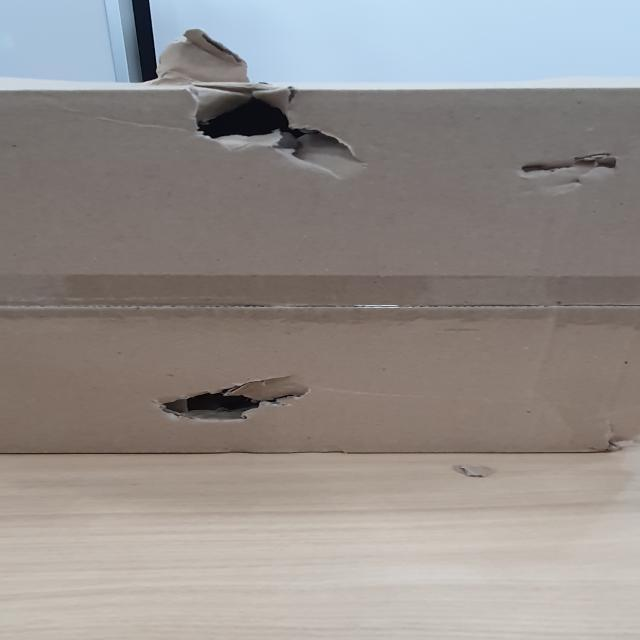hole: (189, 89, 353, 161), (154, 379, 315, 421), (525, 152, 625, 186)
